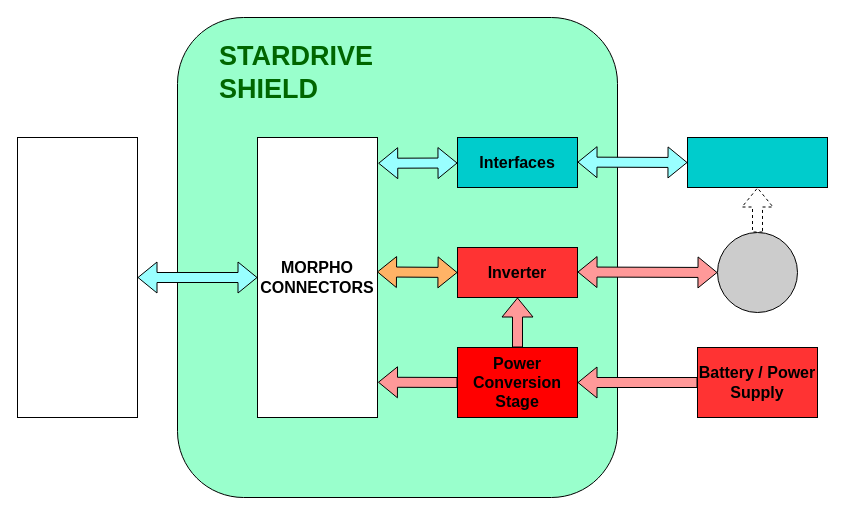
This 845x515 diagram has some shape labels left out. The shapes that lost their labels are listed below. From the top down, each one's box as (x1, y1, x2, y2) in pixels, then its label:
(686, 136, 828, 188): Communication / Sensors
(16, 136, 138, 418): NUCLEO-64 BOARD
(716, 232, 798, 312): MOT
